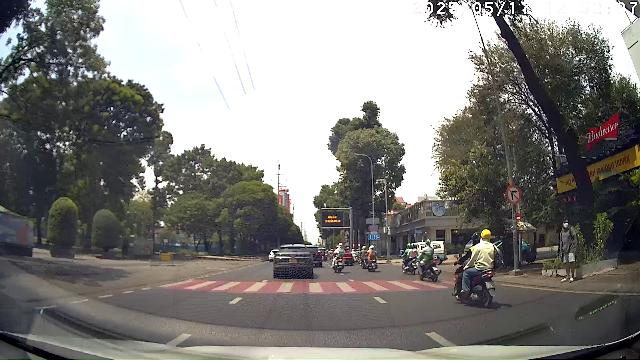123b-cam-re-phai: (506, 184, 522, 204)
